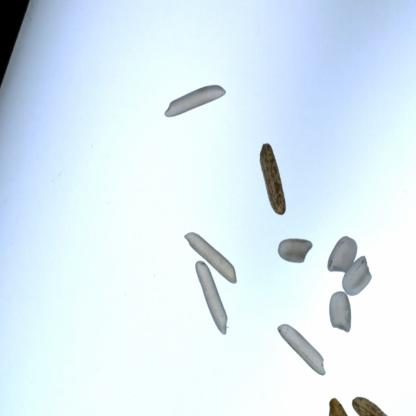Full: (158, 76, 226, 160), (241, 145, 304, 222), (186, 259, 243, 336), (270, 321, 338, 376), (176, 230, 245, 281), (274, 237, 320, 279), (322, 288, 362, 332), (345, 255, 378, 304), (350, 380, 396, 415), (326, 228, 358, 276), (324, 394, 354, 416)
